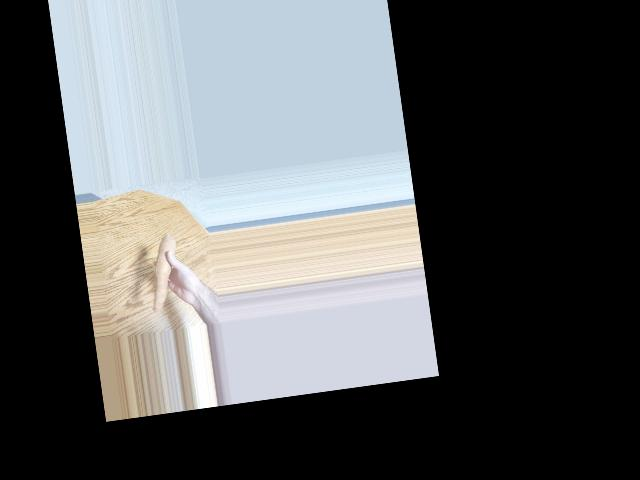sweet_potato: (149, 235, 181, 316)
